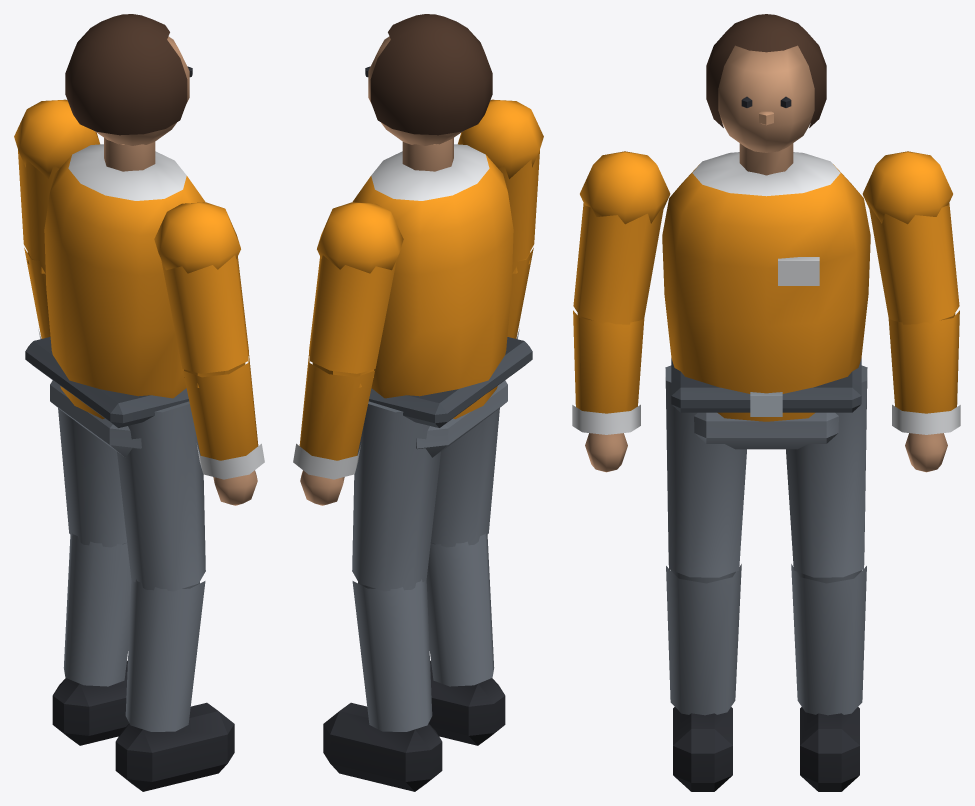
Rendered from colonist_indoor.glb.
3 views of the same model, side by side, from view 1: azimuth 30°, elevation 25°; view 2: azimuth 150°, elevation 25°; view 3: azimuth 270°, elevation 25° (orthographic).
Visible parts, largest first — view 1: Body, LegR, ArmR, LegL, ArmL; view 2: Body, LegL, ArmL, LegR, ArmR; view 3: Body, LegL, LegR, ArmL, ArmR.
Part boxes in pixels (left/top/right/bottom): Body: left=25, top=14, right=205, bottom=457; LegR: left=115, top=401, right=234, bottom=791; ArmR: left=154, top=202, right=264, bottom=505; LegL: left=52, top=408, right=131, bottom=745; ArmL: left=14, top=99, right=99, bottom=339; Body: left=352, top=14, right=532, bottom=457; LegL: left=323, top=401, right=442, bottom=791; ArmL: left=293, top=202, right=403, bottom=505; LegR: left=426, top=408, right=505, bottom=745; ArmR: left=458, top=99, right=543, bottom=339; Body: left=662, top=14, right=870, bottom=449; LegL: left=786, top=365, right=867, bottom=791; LegR: left=665, top=365, right=746, bottom=791; ArmL: left=862, top=151, right=960, bottom=472; ArmR: left=572, top=151, right=670, bottom=472.
Size of the model in its own units: 0.3415 by 1.78 by 0.838.
